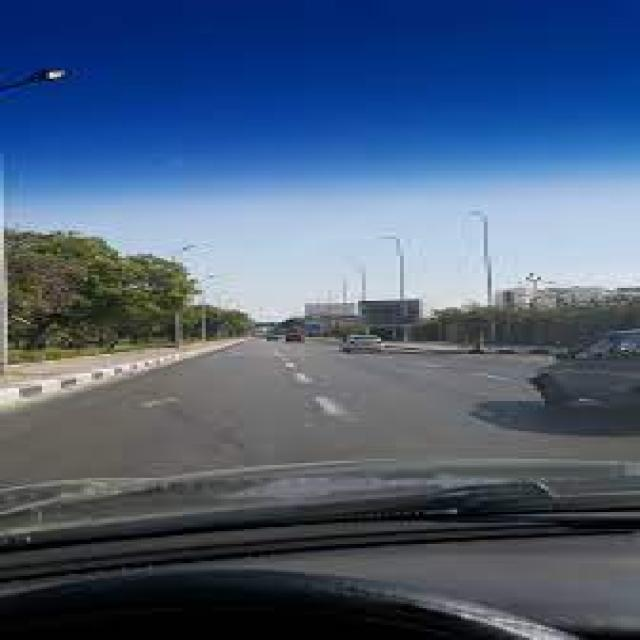Street Light: (4, 66, 76, 135), (469, 209, 495, 337), (381, 235, 408, 341)
